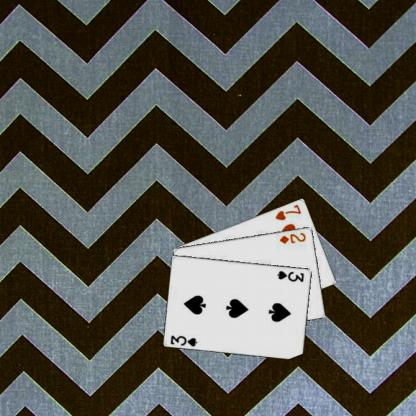2D: (277, 230, 307, 244)
3S: (275, 268, 306, 282), (168, 333, 198, 347)
7H: (272, 201, 302, 222)
